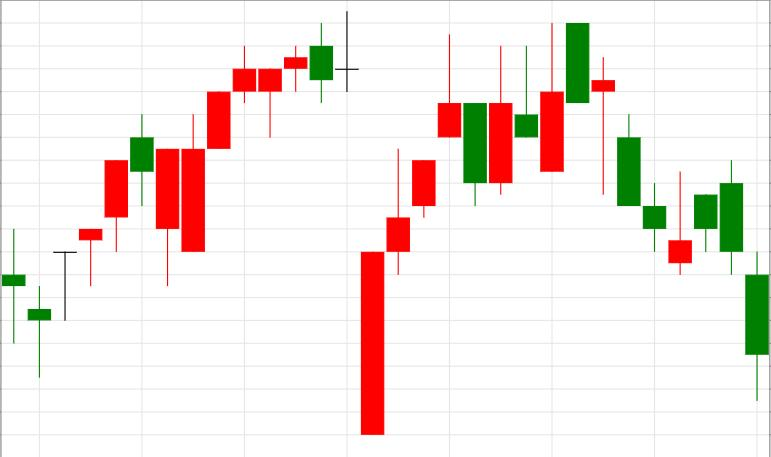inverse_hammer_rise: (566, 23, 691, 276)
shooting_star_fall: (361, 33, 461, 434)
